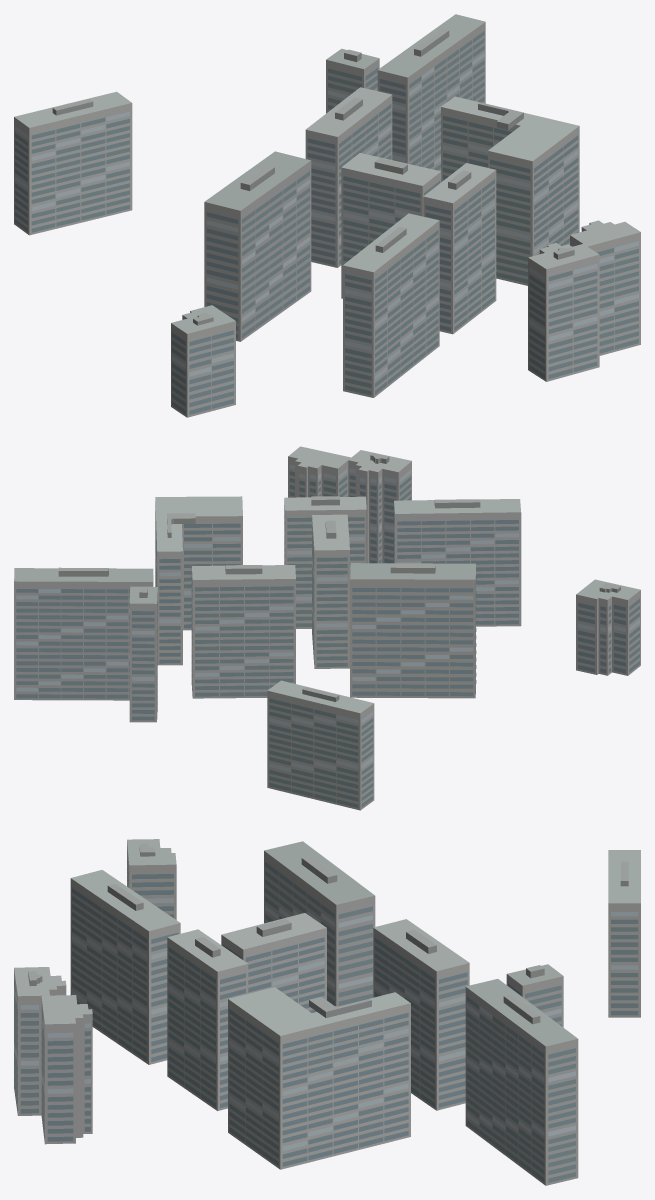
File: apt-a12079501.glb
The picture shows the model from 3 angles, top to bottom: view 1: azimuth 30°, elevation 25°; view 2: azimuth 150°, elevation 25°; view 3: azimuth 270°, elevation 25°; orthographic projection. The views are drawn at different scales.
Parts seen in each view (by area): view 1: apt-a12079501; view 2: apt-a12079501; view 3: apt-a12079501.
Part boxes in pixels (bbox=[...]): apt-a12079501: bbox=[14, 14, 640, 417]; apt-a12079501: bbox=[14, 446, 640, 810]; apt-a12079501: bbox=[14, 839, 640, 1185].
Bounding box in the file's own units: 189 × 50 × 195.
